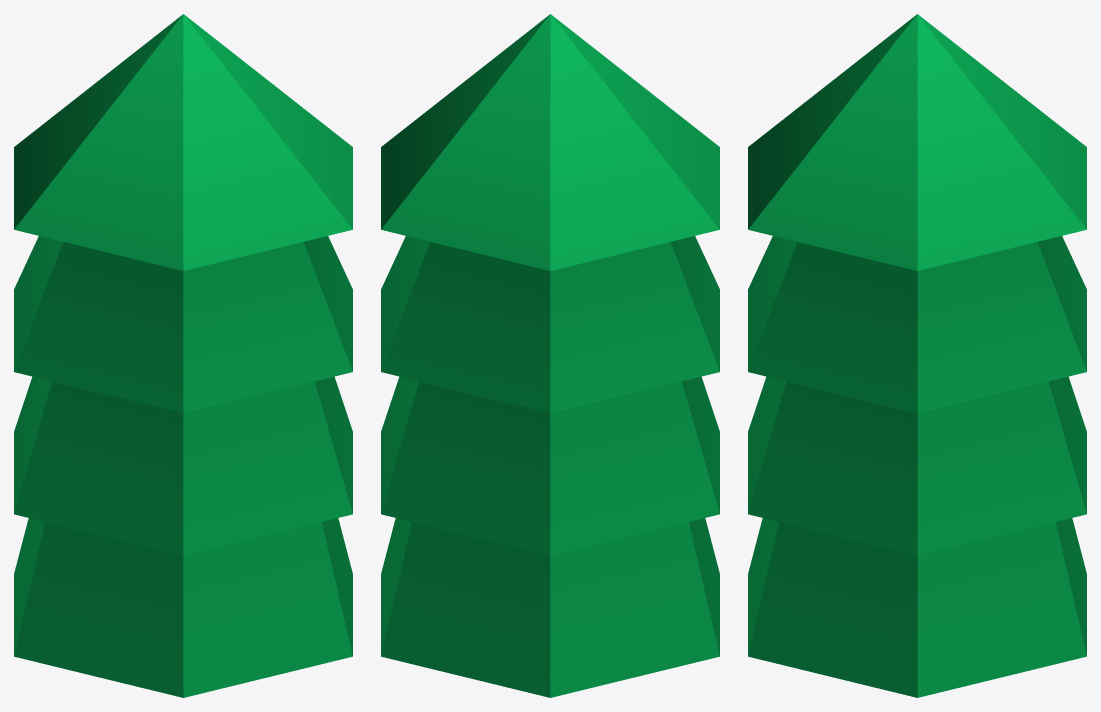
File: Arbre 1.fbx
3 renders of one model, left to right at view 1: azimuth 30°, elevation 25°; view 2: azimuth 150°, elevation 25°; view 3: azimuth 270°, elevation 25°, orthographic.
Parts seen in each view (by area): view 1: Arbre; view 2: Arbre; view 3: Arbre.
Boxes of the visible parts, x1,y1,x2,y2 form: Arbre: (14, 14, 352, 697); Arbre: (381, 14, 719, 697); Arbre: (748, 14, 1086, 697).
Size of the model in its own units: 6.65 by 11.28 by 5.76.
